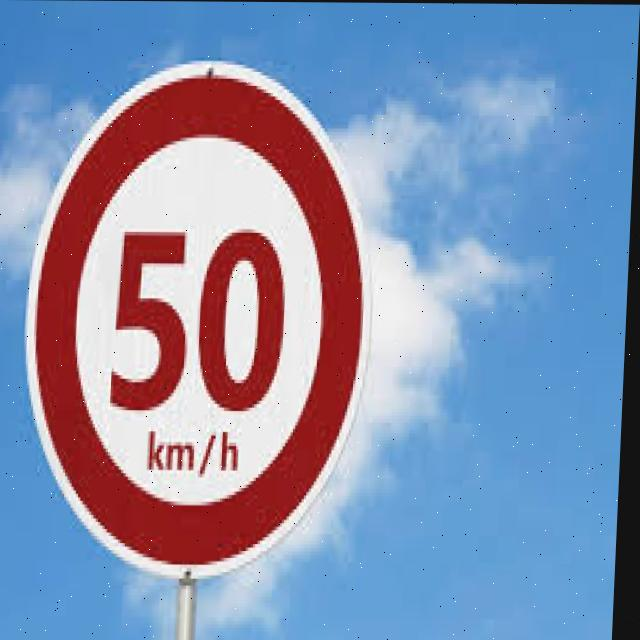Speed limit 50: (18, 54, 386, 584)
